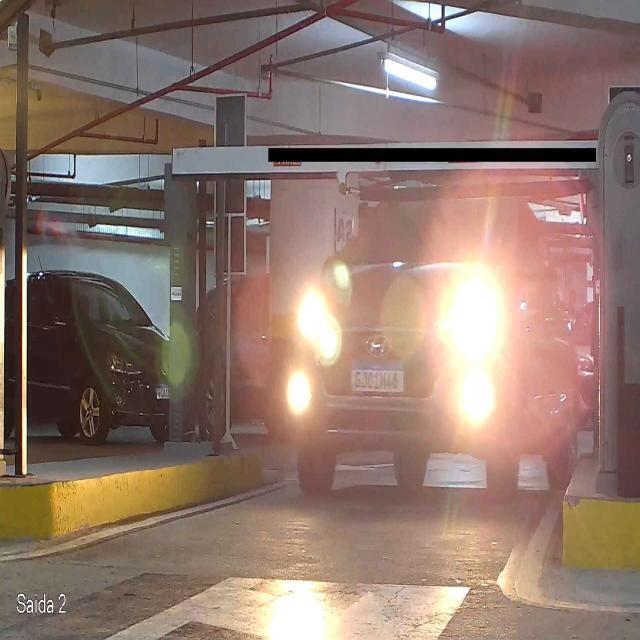mercosul_plate: (349, 357, 406, 394)
